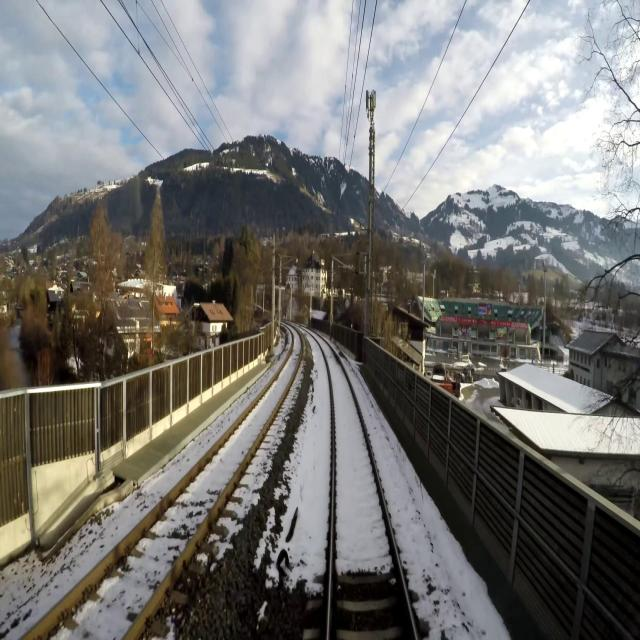rail-track: (27, 327, 301, 639), (315, 334, 413, 639)
